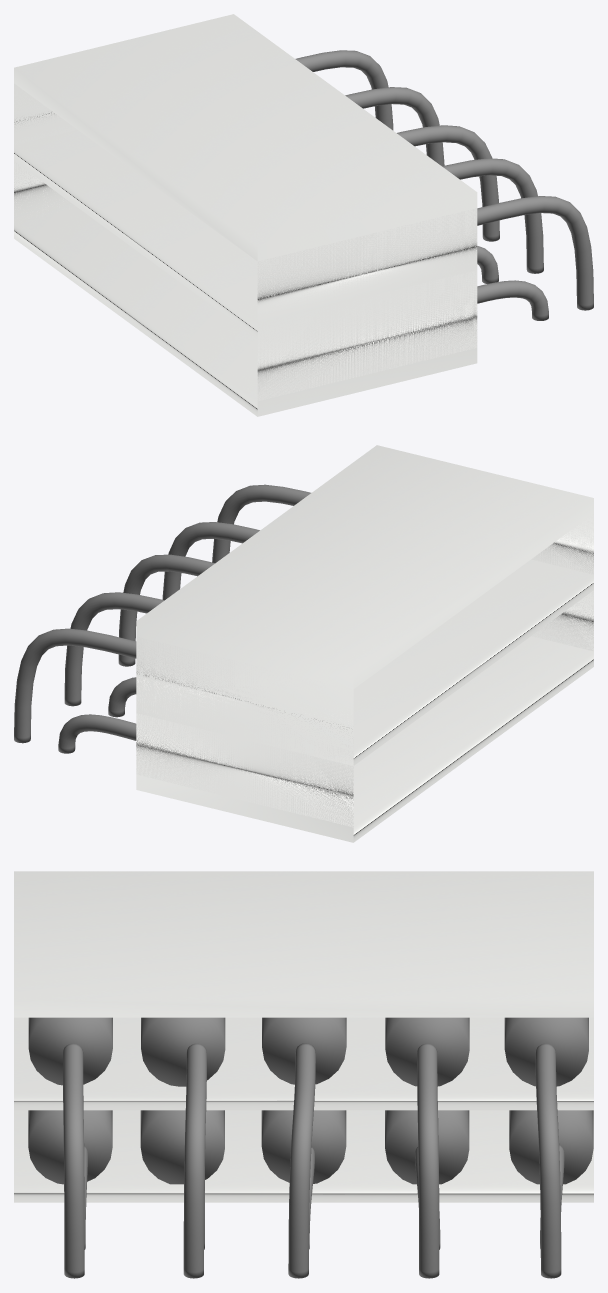
File: Impianto_1.glb
The picture shows the model from 3 angles, top to bottom: view 1: azimuth 30°, elevation 25°; view 2: azimuth 150°, elevation 25°; view 3: azimuth 270°, elevation 25°; orthographic projection. The views are drawn at different scales.
Visible parts, largest first — view 1: Cube.002, Cylinder.027, Cylinder.028, Cylinder.010, Cylinder.014, Cylinder.031, Cylinder.022, Cylinder.023; view 2: Cube.002, Cylinder.031, Cylinder.014, Cylinder.010, Cylinder.027, Cylinder.028, Cylinder.020, Cylinder.025; view 3: Cube.002, Cylinder.031, Cylinder.028, Cylinder.010, Cylinder.014, Cylinder.027, Cylinder.008, Cylinder.009, Cylinder.007, Cylinder.006, Cylinder.005, Cylinder.002 (+4 smaller).
Boxes of the visible parts, x1=… form: Cube.002: x1=14, y1=14, x2=477, y2=416; Cylinder.027: x1=477, y1=196, x2=593, y2=310; Cylinder.028: x1=442, y1=158, x2=543, y2=273; Cylinder.010: x1=397, y1=125, x2=499, y2=241; Cylinder.014: x1=345, y1=87, x2=444, y2=166; Cylinder.031: x1=295, y1=50, x2=393, y2=130; Cylinder.022: x1=477, y1=280, x2=548, y2=320; Cylinder.023: x1=477, y1=246, x2=498, y2=283; Cube.002: x1=136, y1=445, x2=593, y2=842; Cylinder.031: x1=14, y1=628, x2=136, y2=743; Cylinder.014: x1=64, y1=592, x2=164, y2=706; Cylinder.010: x1=118, y1=554, x2=214, y2=666; Cylinder.027: x1=212, y1=484, x2=310, y2=563; Cylinder.028: x1=162, y1=522, x2=259, y2=600; Cylinder.020: x1=58, y1=714, x2=136, y2=753; Cylinder.025: x1=108, y1=677, x2=136, y2=717; Cube.002: x1=14, y1=871, x2=593, y2=1202; Cylinder.031: x1=535, y1=1043, x2=561, y2=1278; Cylinder.028: x1=183, y1=1043, x2=206, y2=1278; Cylinder.010: x1=288, y1=1043, x2=315, y2=1278; Cylinder.014: x1=417, y1=1043, x2=439, y2=1278; Cylinder.027: x1=63, y1=1043, x2=84, y2=1278; Cylinder.008: x1=385, y1=1017, x2=469, y2=1086; Cylinder.009: x1=504, y1=1017, x2=588, y2=1086; Cylinder.007: x1=141, y1=1017, x2=225, y2=1086; Cylinder.006: x1=28, y1=1017, x2=112, y2=1085; Cylinder.005: x1=262, y1=1017, x2=346, y2=1084; Cylinder.002: x1=140, y1=1110, x2=224, y2=1184.
Size of the model in its own units: 7.29 by 3.3 by 8.52.
Materials: 2 (2 with a texture image).
